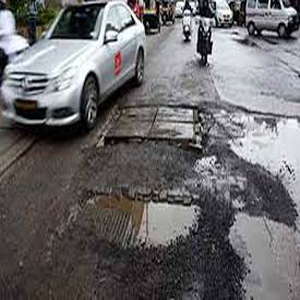pothole: (80, 187, 202, 258)
